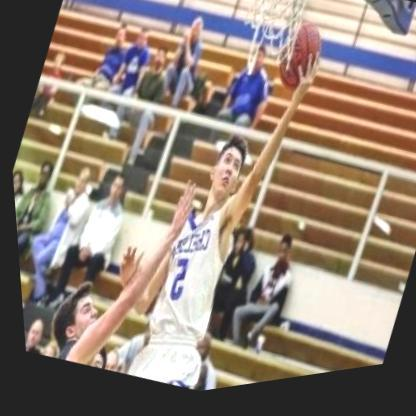basketball: (263, 22, 332, 109)
